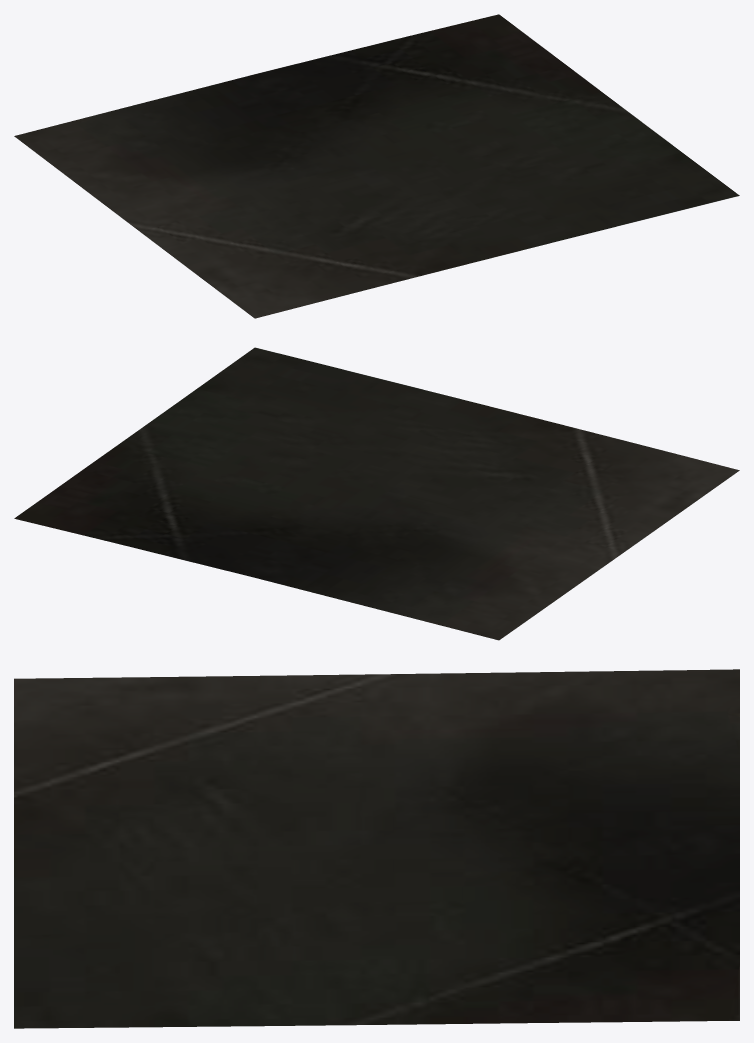
3 views of the same model, one above another, from view 1: azimuth 30°, elevation 25°; view 2: azimuth 150°, elevation 25°; view 3: azimuth 270°, elevation 25° (orthographic). The views are drawn at different scales.
Size of the model in its own units: 1.99 by 0.0387 by 1.71.
1 material, 1 textured.
